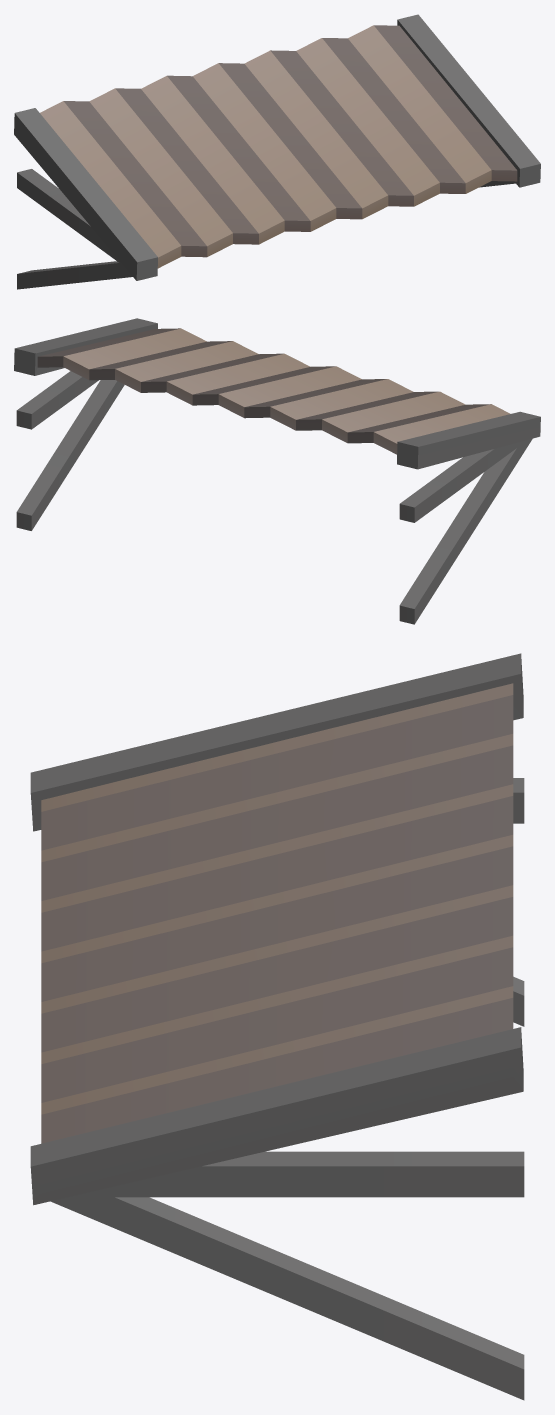
The model's file is B02_auvent_2.fbx.
3 views of the same model, one above another, from view 1: azimuth 30°, elevation 25°; view 2: azimuth 150°, elevation 25°; view 3: azimuth 270°, elevation 25° (orthographic). The views are drawn at different scales.
Parts seen in each view (by area): view 1: B02_auvent_2; view 2: B02_auvent_2; view 3: B02_auvent_2.
Part boxes in pixels (box(x1,y1,x2,y2)): B02_auvent_2: box(14, 14, 540, 289); B02_auvent_2: box(14, 318, 540, 624); B02_auvent_2: box(30, 653, 524, 1400).
Bounding box in the file's own units: 334 × 142 × 177.
